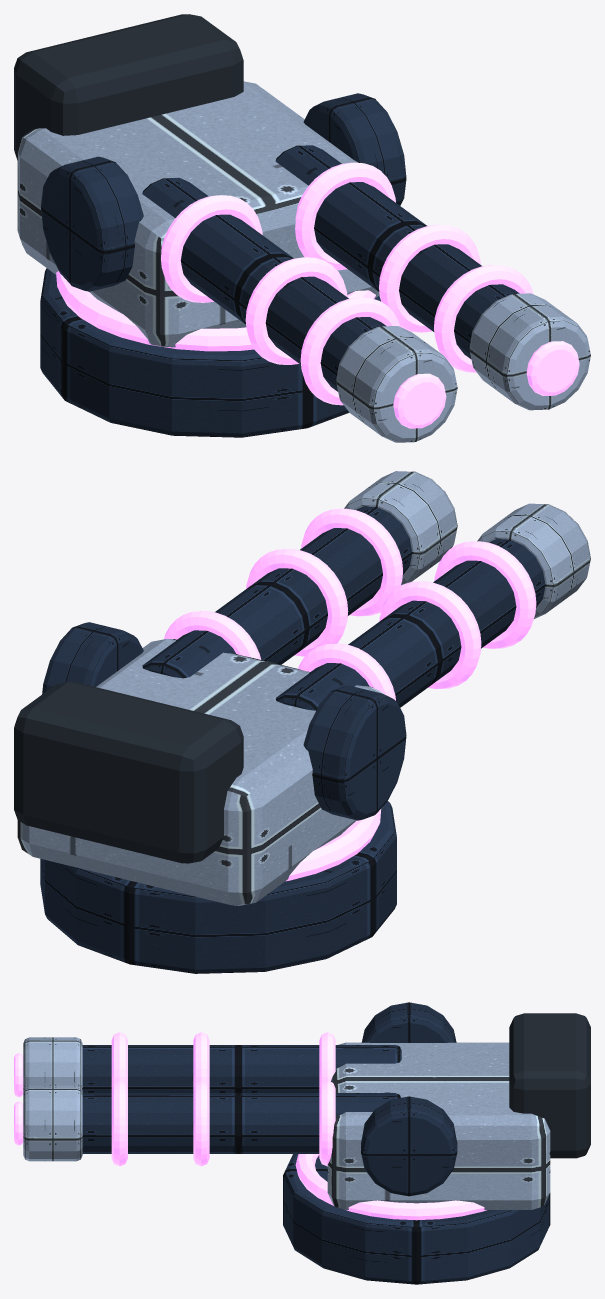
The model's file is nova_gun.glb.
3 renders of one model, top to bottom at view 1: azimuth 30°, elevation 25°; view 2: azimuth 150°, elevation 25°; view 3: azimuth 270°, elevation 25°, orthographic. The views are drawn at different scales.
Visible parts, largest first — view 1: Surface_Brushed_Steel, Surface_Ceramic_Armor, Surface_Brushed_Steel.001, Surface_nova_gun_Reactor.001, Surface_Recess_Carbon, Surface_Ceramic_Armor.001, Surface_nova_gun_Reactor; view 2: Surface_Brushed_Steel, Surface_Recess_Carbon, Surface_Ceramic_Armor, Surface_Brushed_Steel.001, Surface_nova_gun_Reactor.001, Surface_Ceramic_Armor.001, Surface_nova_gun_Reactor; view 3: Surface_Brushed_Steel, Surface_Brushed_Steel.001, Surface_Ceramic_Armor, Surface_Recess_Carbon, Surface_Ceramic_Armor.001, Surface_nova_gun_Reactor.001, Surface_nova_gun_Reactor.
Part boxes in pixels (x1,y1,x2,y2): Surface_Brushed_Steel: (40, 93, 406, 437); Surface_Ceramic_Armor: (17, 81, 379, 347); Surface_Brushed_Steel.001: (142, 145, 519, 391); Surface_nova_gun_Reactor.001: (161, 162, 579, 428); Surface_Recess_Carbon: (14, 14, 243, 160); Surface_Ceramic_Armor.001: (336, 293, 590, 442); Surface_nova_gun_Reactor: (56, 271, 375, 351); Surface_Brushed_Steel: (40, 622, 406, 973); Surface_Recess_Carbon: (14, 682, 243, 863); Surface_Ceramic_Armor: (17, 639, 384, 905); Surface_Brushed_Steel.001: (142, 506, 545, 710); Surface_nova_gun_Reactor.001: (164, 508, 536, 700); Surface_Ceramic_Armor.001: (344, 471, 590, 618); Surface_nova_gun_Reactor: (286, 809, 380, 881); Surface_Brushed_Steel: (283, 1002, 550, 1284); Surface_Brushed_Steel.001: (82, 1045, 401, 1153); Surface_Ceramic_Armor: (327, 1042, 550, 1209); Surface_Recess_Carbon: (509, 1013, 590, 1158); Surface_Ceramic_Armor.001: (23, 1037, 82, 1161); Surface_nova_gun_Reactor.001: (14, 1032, 335, 1166); Surface_nova_gun_Reactor: (295, 1154, 486, 1220).
Size of the model in its own units: 0.36 by 0.28 by 0.7775.
Materials: 4 (2 with a texture image).
